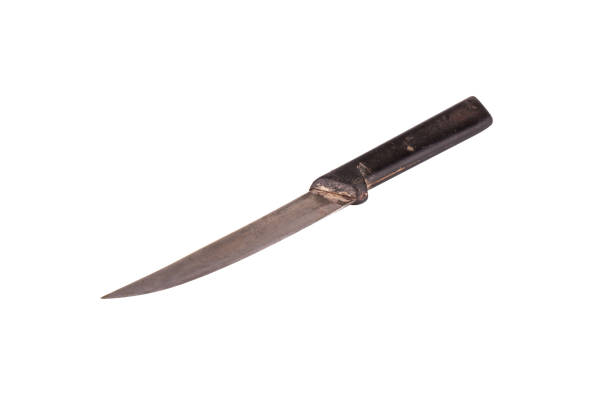knife: (96, 95, 496, 301)
